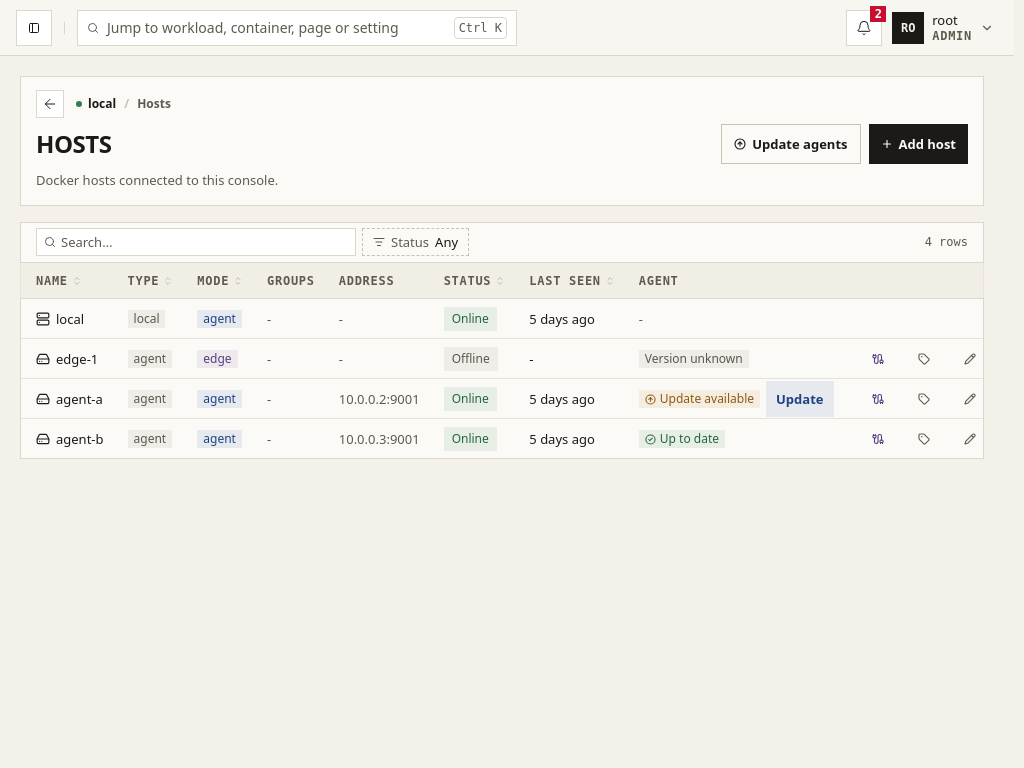
Test: hosts page › reports a rolling update that cannot start
Click the button "Update agents": [791, 144] box [721,124,860,164]
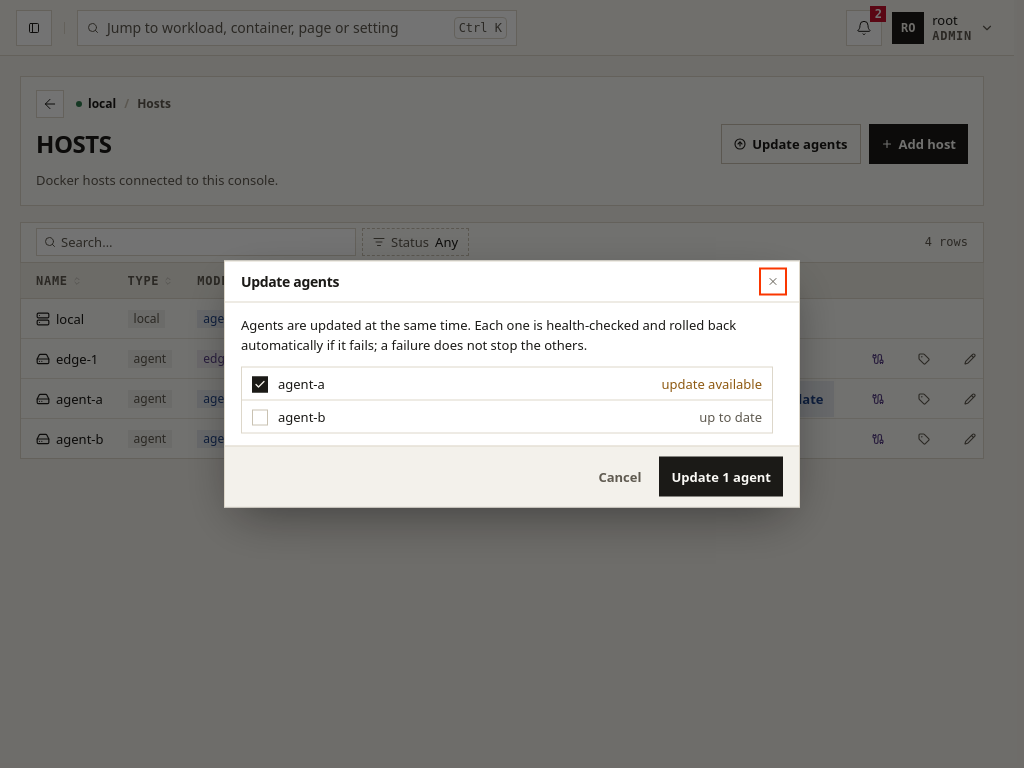
Click the checkbox named "Update agent-b": [260, 418] box [252,410,268,426]
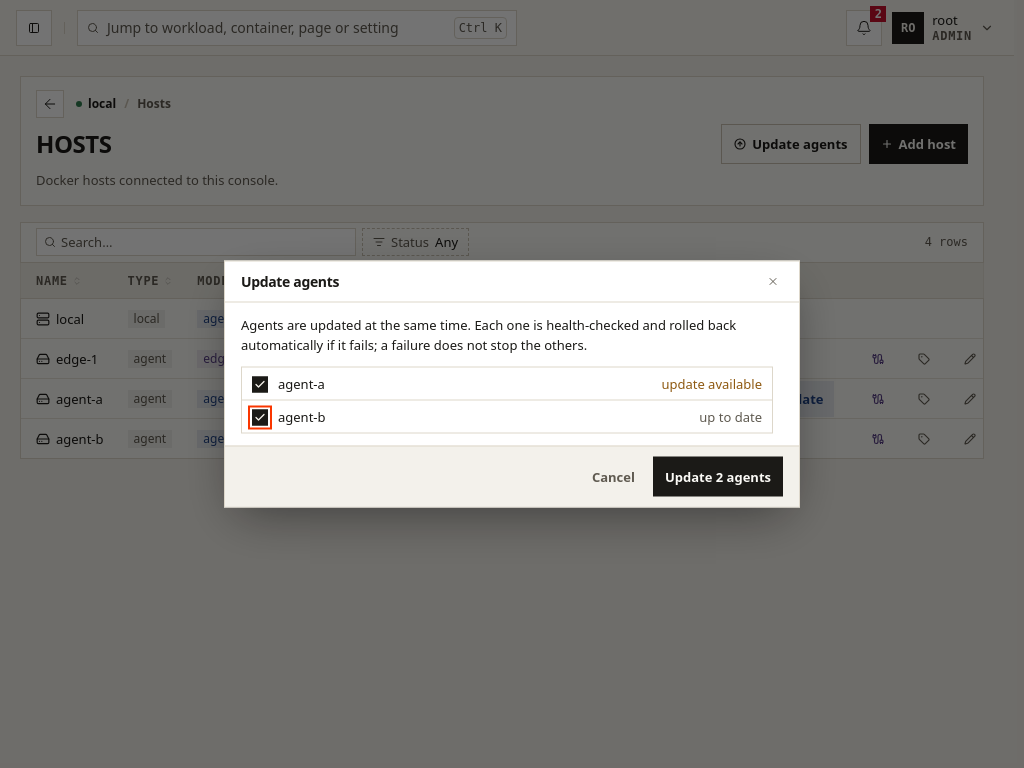
Check: the button "Update 2 agents" is enabled
Click the button "Update 2 agents": [718, 476] box [653,456,783,496]
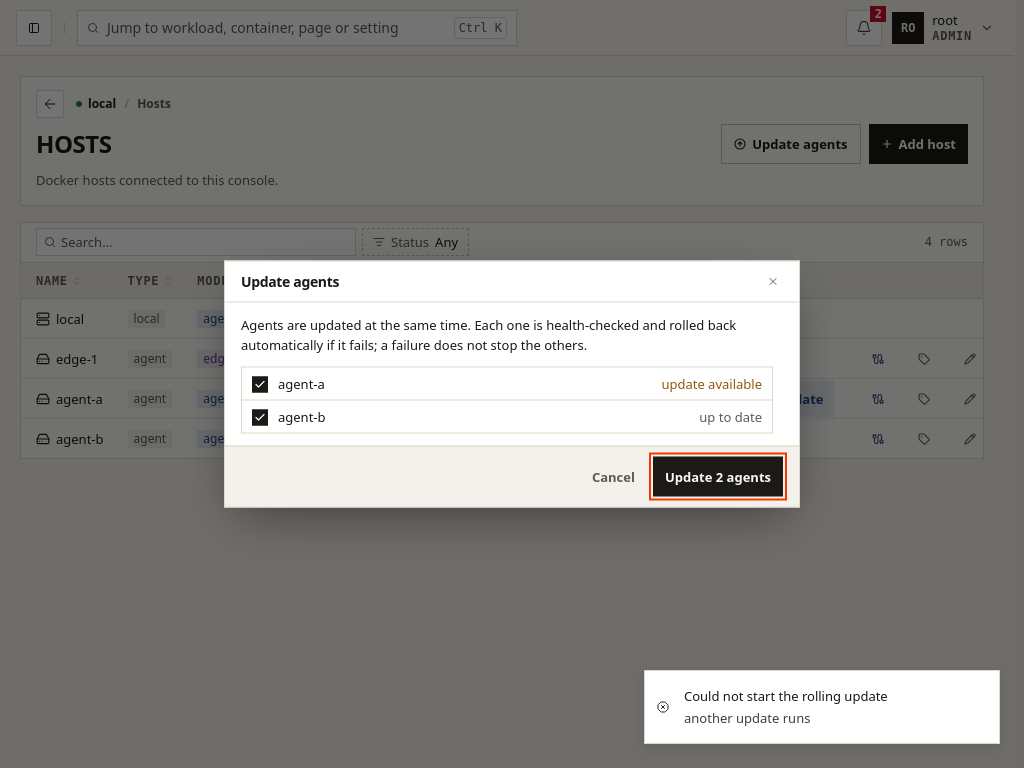
Check: the text "another update runs" is shown, box [684,709,810,727]
